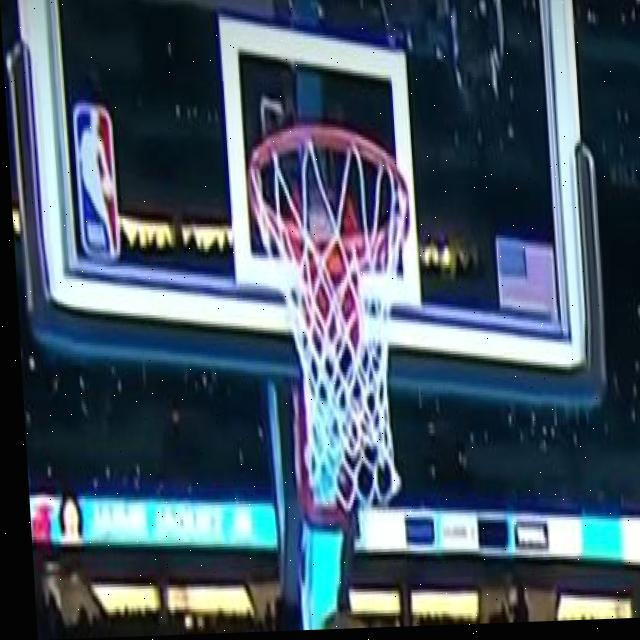hoop: (229, 103, 457, 539)
